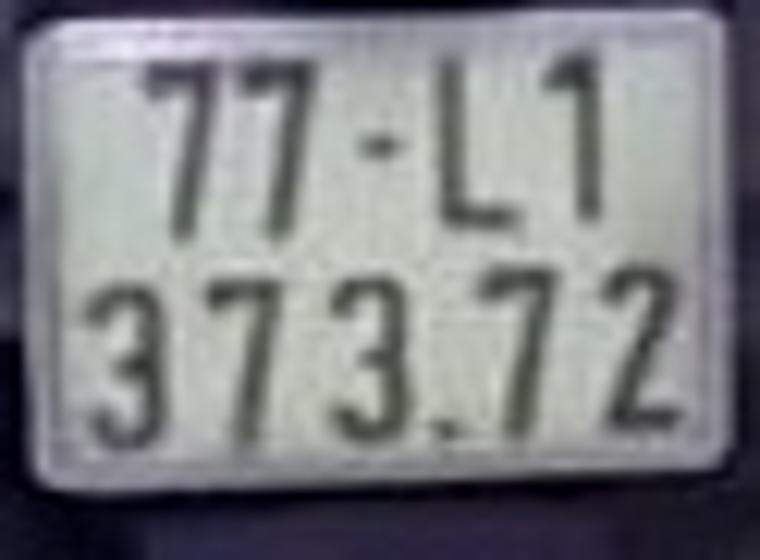-: (350, 135, 402, 168)
.: (428, 414, 470, 453)
1: (539, 44, 623, 229)
2: (601, 250, 694, 440)
3: (71, 275, 177, 458), (327, 276, 417, 451)
7: (232, 57, 325, 253), (197, 272, 294, 457), (476, 259, 570, 446), (143, 58, 225, 247)
L: (432, 40, 536, 242)
